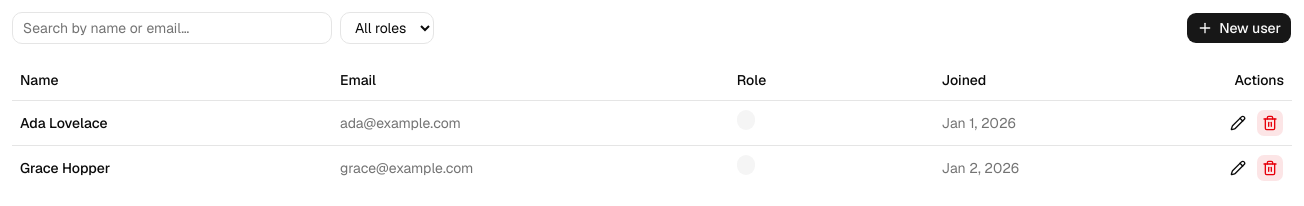
Test: UsersView › narrows the list to a search match, and restores it when cleared
Check: the text "grace@example.com" is shown, box top-left (332, 145), bottom-right (729, 190)
Step 1. Type "grace@example.com" into the field named "Search users" → (172, 28), box top-left (12, 12), bottom-right (332, 44)
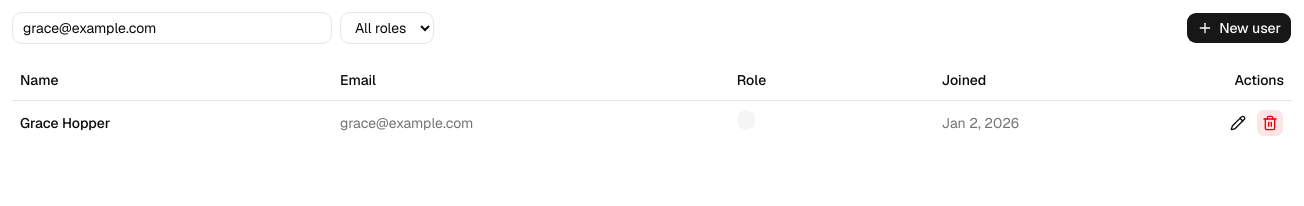
Check: the text "ada@example.com" is gone
Check: the text "grace@example.com" is shown, box top-left (332, 100), bottom-right (729, 144)
Step 2. Clear the field named "Search users" → (172, 28), box top-left (12, 12), bottom-right (332, 44)
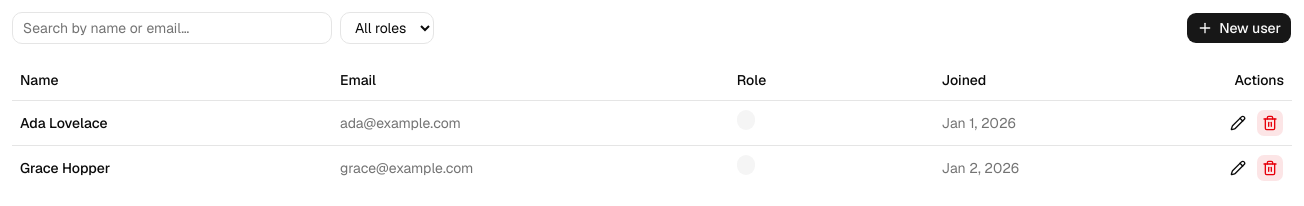
Check: the text "grace@example.com" is shown, box top-left (332, 145), bottom-right (729, 190)
Check: the text "ada@example.com" is shown, box top-left (332, 100), bottom-right (729, 145)
